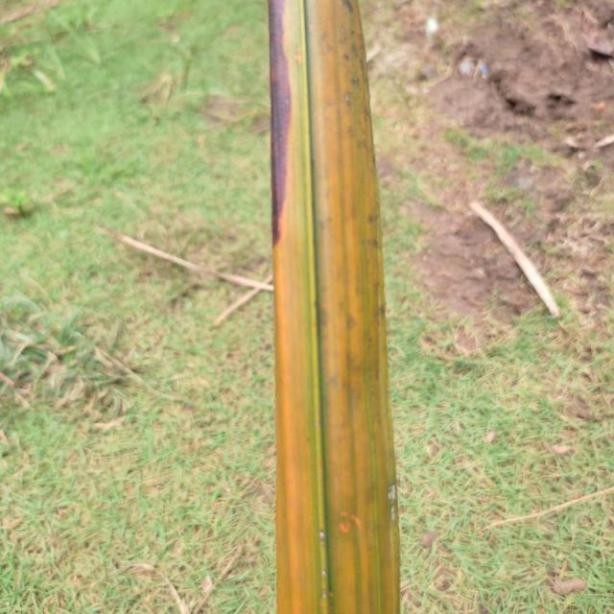Megnesium: (269, 0, 403, 614)
